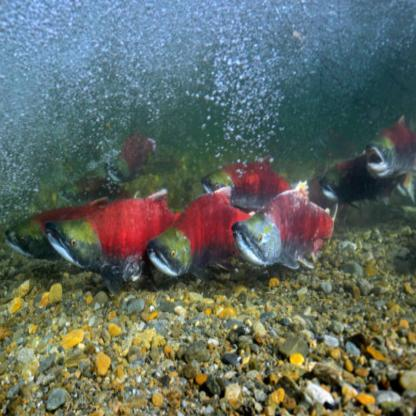sockeye: (49, 186, 185, 280), (244, 184, 351, 273), (149, 186, 257, 274), (3, 195, 66, 253)
sockeye-group: (0, 148, 351, 274)
